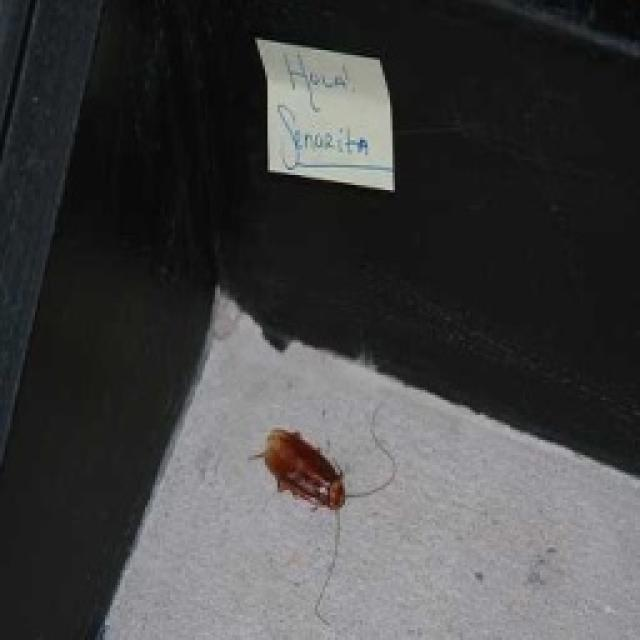cockroach: (242, 411, 394, 534)
